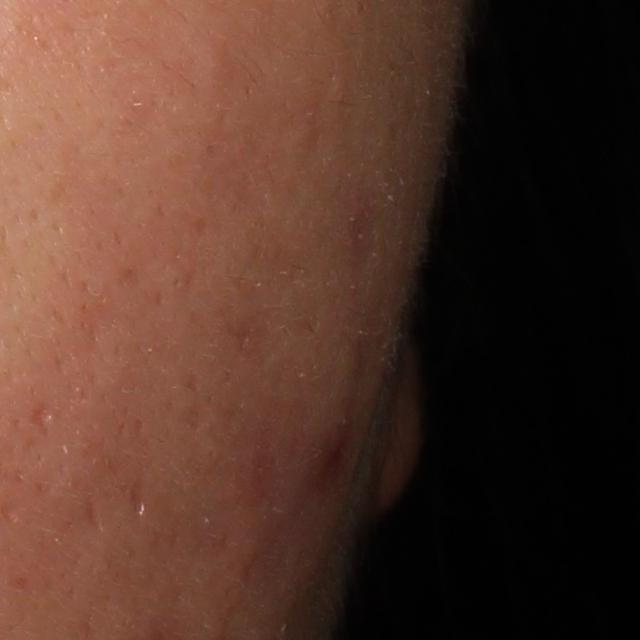atrophic_scar: (28, 398, 53, 437), (84, 492, 106, 533), (128, 484, 149, 516)
